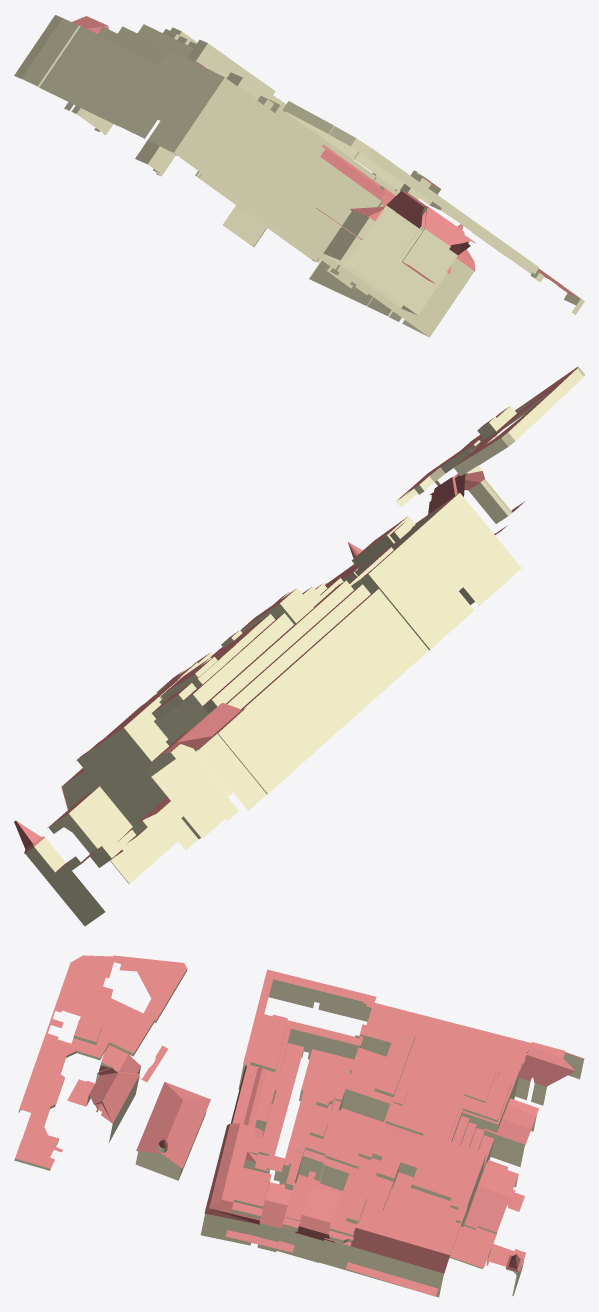
Rendered from tile_047.glb.
3 views of the same model, one above another, from view 1: azimuth 30°, elevation 25°; view 2: azimuth 150°, elevation 25°; view 3: azimuth 270°, elevation 25° (orthographic). The views are drawn at different scales.
Parts seen in each view (by area): view 1: Batched_Building_ID_3AEFA347-484C-4DFC-B775-3A0B843798F3, Batched_Building_ID_EC4FCE64-5BF4-4B86-909E-9AAB0F16DFFE; view 2: Batched_Building_ID_3AEFA347-484C-4DFC-B775-3A0B843798F3, Batched_Building_ID_EC4FCE64-5BF4-4B86-909E-9AAB0F16DFFE; view 3: Batched_Building_ID_EC4FCE64-5BF4-4B86-909E-9AAB0F16DFFE, Batched_Building_ID_3AEFA347-484C-4DFC-B775-3A0B843798F3.
Boxes of the visible parts, box(x1,y1,x2,y2) form: Batched_Building_ID_3AEFA347-484C-4DFC-B775-3A0B843798F3: box(14, 15, 584, 337); Batched_Building_ID_EC4FCE64-5BF4-4B86-909E-9AAB0F16DFFE: box(56, 15, 580, 298); Batched_Building_ID_3AEFA347-484C-4DFC-B775-3A0B843798F3: box(25, 366, 584, 926); Batched_Building_ID_EC4FCE64-5BF4-4B86-909E-9AAB0F16DFFE: box(14, 367, 577, 871); Batched_Building_ID_EC4FCE64-5BF4-4B86-909E-9AAB0F16DFFE: box(15, 955, 584, 1296); Batched_Building_ID_3AEFA347-484C-4DFC-B775-3A0B843798F3: box(14, 969, 583, 1297).
Size of the model in its own units: 107 by 119 by 224.
